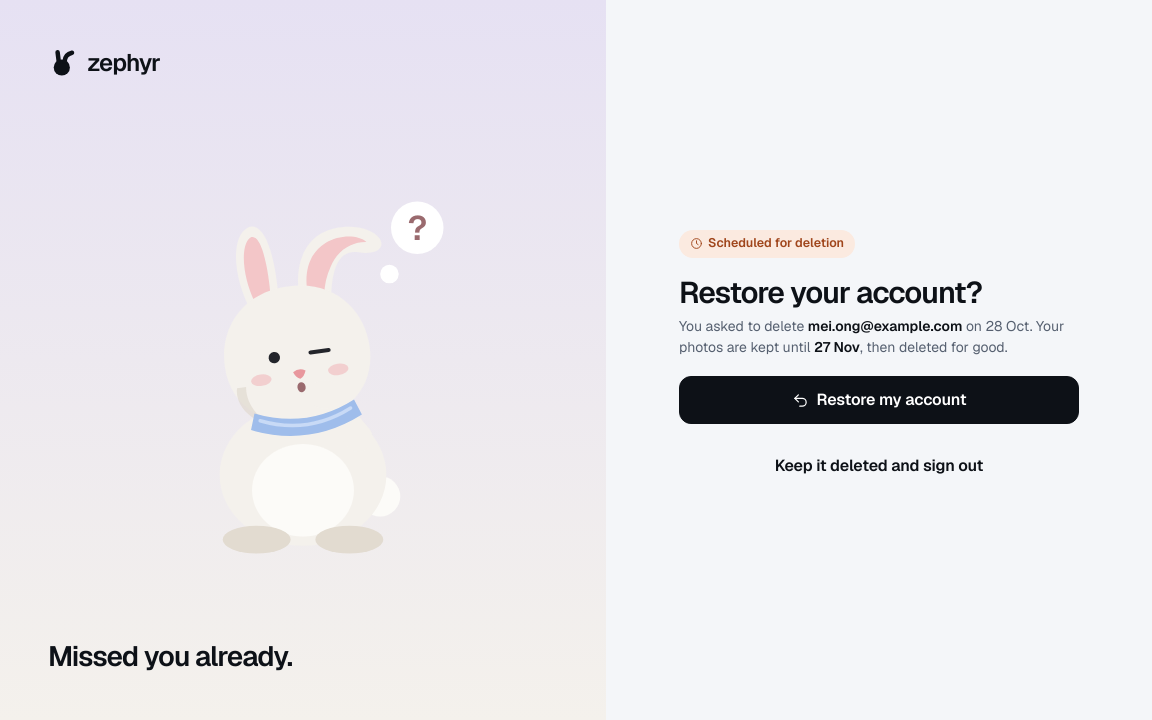
Test: pending deletion › routes every signed-in page to the restore screen, and Restore brings the library back
Expected: the heading "Restore your account?" is shown, [679,273,982,312]
Expected: the text "Your photos are kept until" is shown, [679,317,1064,356]
What coordinates should you click on to do the following:
click the button "Restore my account"
I would click on:
 (879, 400)
Its box is [679,376,1079,424].
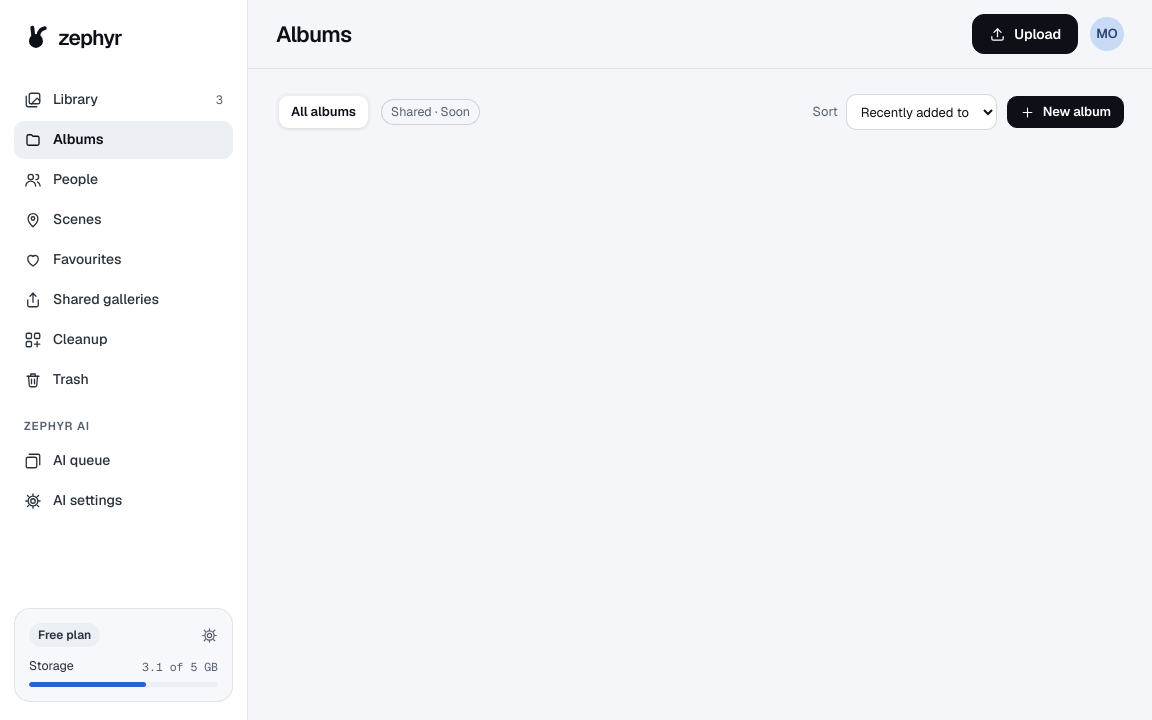
Expected: the heading "Restore your account?" is gone
